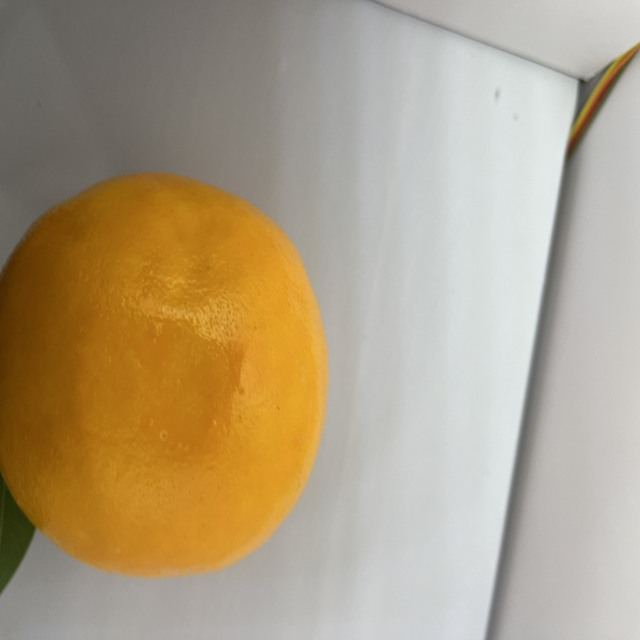Cam vang: (0, 171, 336, 582)
